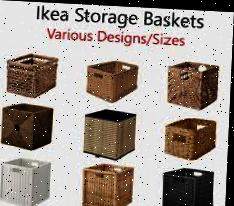cube: (85, 108, 141, 160), (3, 157, 55, 206), (1, 102, 54, 150), (83, 162, 137, 206), (163, 166, 218, 206)
